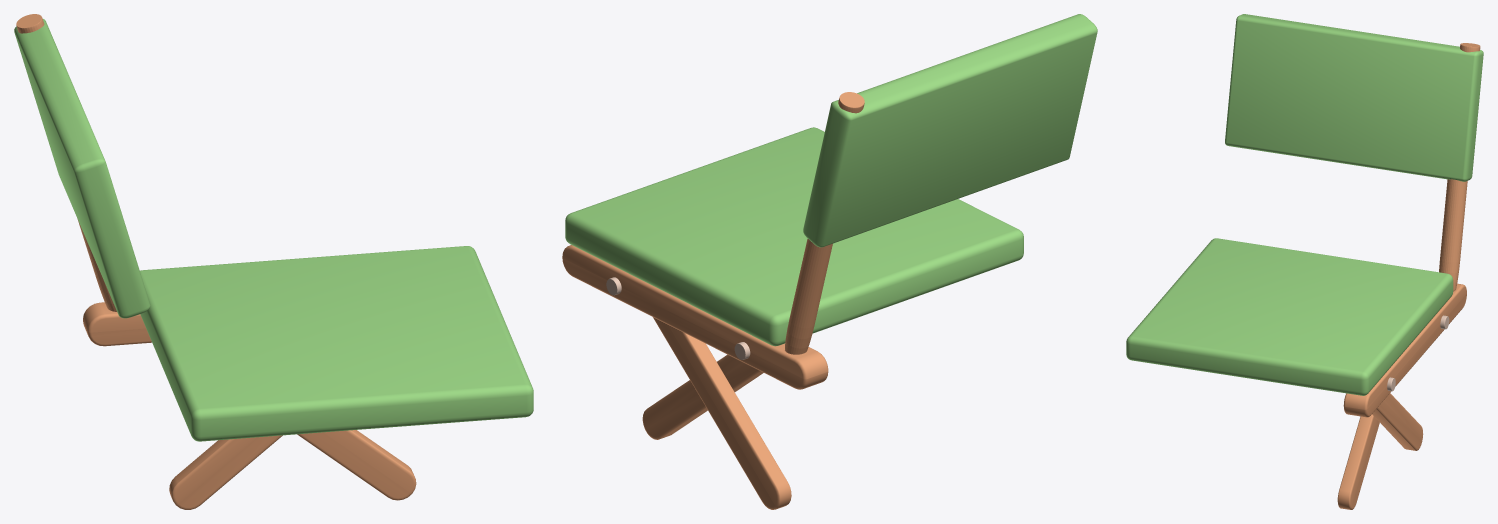
File: Chair.glb
The picture shows the model from 3 angles, left to right: view 1: azimuth 30°, elevation 25°; view 2: azimuth 150°, elevation 25°; view 3: azimuth 270°, elevation 25°; orthographic projection. The views are drawn at different scales.
Parts seen in each view (by area): view 1: 框架横; view 2: 框架横; view 3: 框架横.
Part boxes in pixels (x1,y1,x2,y2): 框架横: [14, 14, 533, 509]; 框架横: [562, 14, 1097, 509]; 框架横: [1126, 14, 1483, 509].
Size of the model in its own units: 3.2 by 3.11 by 2.77.
